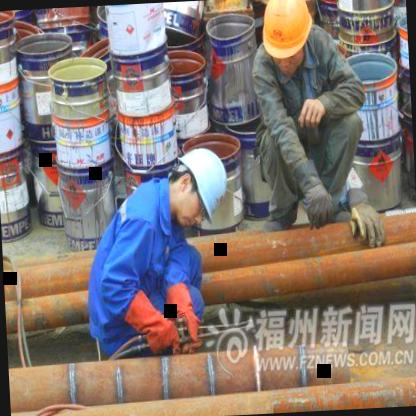helmet: (164, 142, 236, 224), (259, 0, 316, 69), (206, 3, 252, 45)
